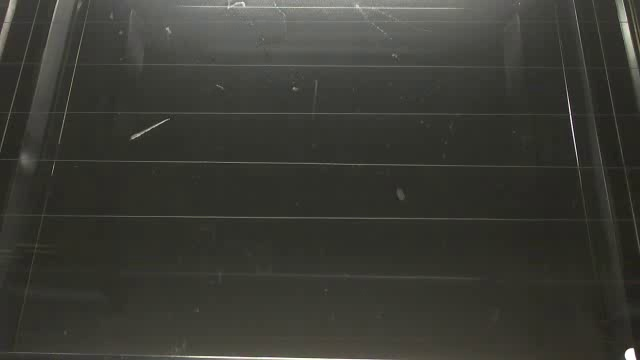Alfa: (129, 116, 170, 141)
